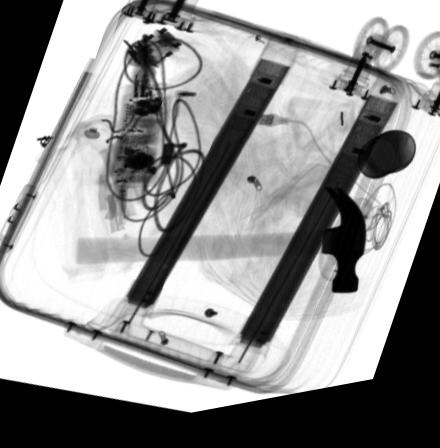Hammer: (74, 199, 364, 307)
